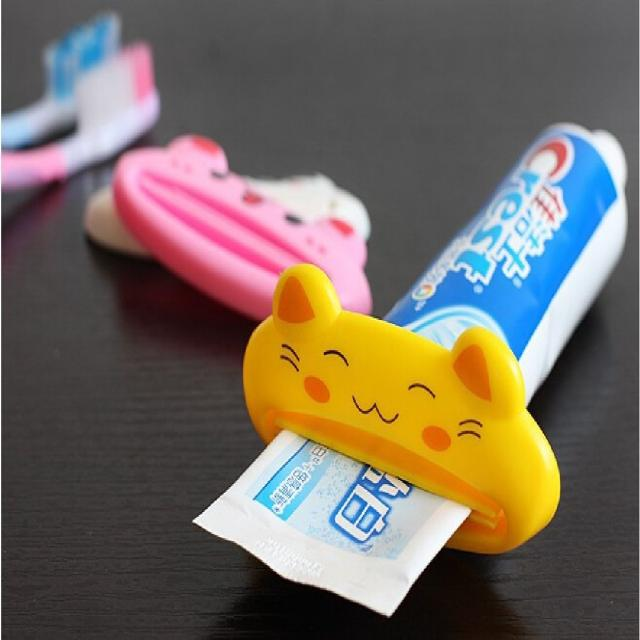toothpaste: (180, 103, 638, 601)
